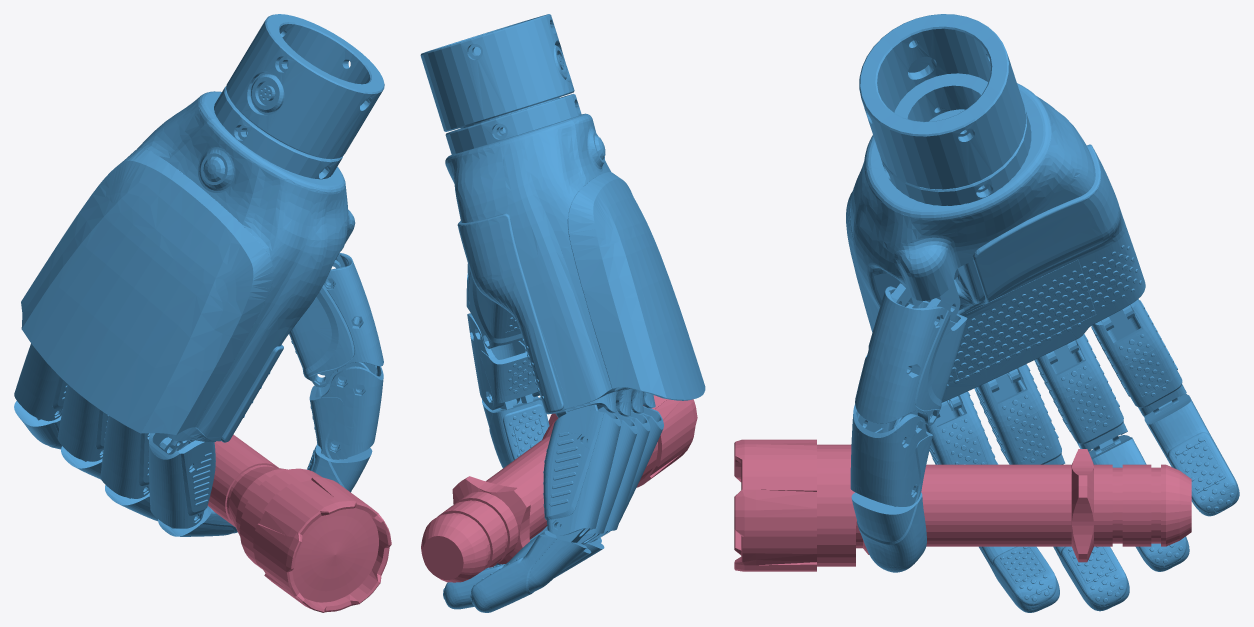
The picture shows the model from 3 angles, left to right: view 1: azimuth 30°, elevation 25°; view 2: azimuth 150°, elevation 25°; view 3: azimuth 270°, elevation 25°; orthographic projection. The views are drawn at different scales.
Visible parts, largest first — view 1: 9; view 2: 9; view 3: 9.
Boxes of the visible parts, x1,y1,x2,y2 form: 9: [14, 14, 391, 612]; 9: [420, 14, 705, 612]; 9: [734, 14, 1239, 612].
Size of the model in its own units: 0.1242 by 0.2155 by 0.1652.
